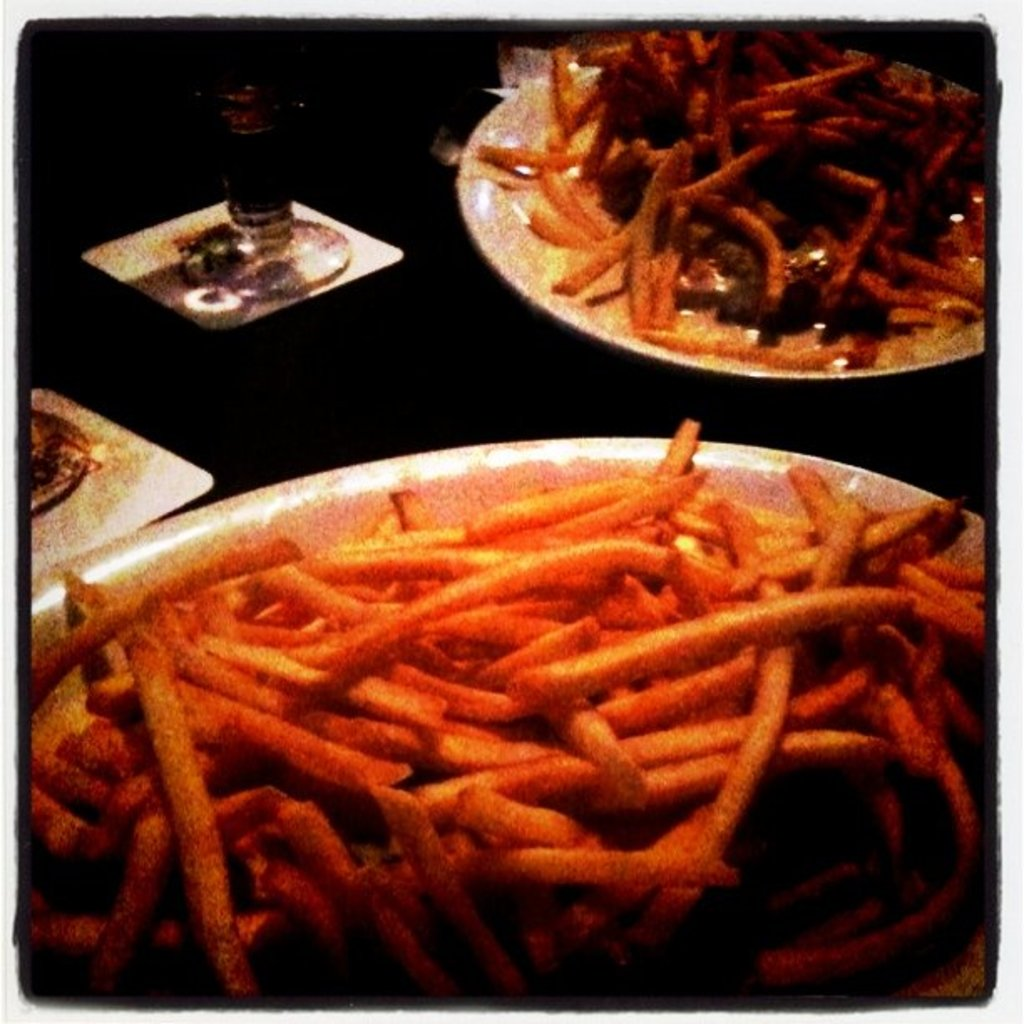French fries: (18, 423, 990, 993), (480, 23, 980, 366)
